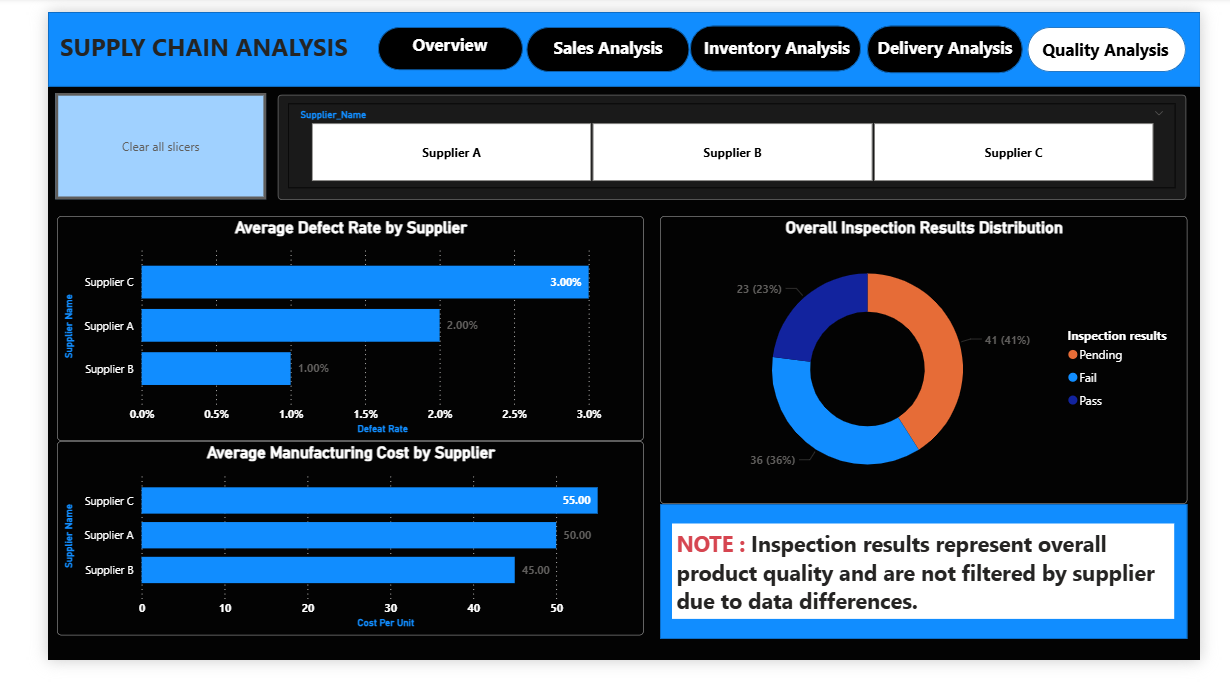

The page's visual inventory and layout, read from the dashboard file:
{"tool":"powerbi","page":{"name":"Quality Analysis","canvas":[1280,720],"ordinal":4},"visuals":[{"type":"shape","box":[0,0,1280.6,83.1],"z":0},{"type":"textbox","box":[8.6,15.8,356.7,61.6],"z":1000},{"type":"shape","box":[366,16,161,48],"z":2000},{"type":"shape","box":[531,16,181,50],"z":3000},{"type":"shape","box":[714,15,190,51],"z":4000},{"type":"shape","box":[910,15,173,53],"z":5000},{"type":"shape","box":[1088,17,176,50],"z":6000},{"type":"actionButton","box":[8,90,234,118],"z":7000},{"type":"textbox","box":[385,19,123,39],"z":8000},{"type":"textbox","box":[551,21,141,39],"z":9000},{"type":"textbox","box":[716,21,186,41],"z":10000},{"type":"textbox","box":[910,22,173,39],"z":11000},{"type":"textbox","box":[1094,23,163,35],"z":12000},{"type":"shape","box":[255.5,90.9,1010,117.3],"z":13000},{"type":"slicer","fields":{"Values":["supplier_performance.Supplier_Name"]},"box":[266,102,986,94],"z":14000},{"type":"clusteredBarChart","title":"Average Defect Rate by Supplier","fields":{"Category":["supplier_performance.Supplier_Name"],"Y":["Avg(supplier_performance.Defect_Rate_Percent)"]},"box":[10,226,652,250],"z":16000},{"type":"clusteredBarChart","title":"Average Manufacturing Cost by Supplier","fields":{"Category":["supplier_performance.Supplier_Name"],"Y":["Avg(supplier_performance.Cost_per_Unit_INR)"]},"box":[10,476,652,216],"z":17000},{"type":"donutChart","title":"Overall Inspection Results Distribution","fields":{"Category":["supply_chain_data.Inspection results"],"Y":["CountNonNull(supply_chain_data.SKU)"]},"box":[680,226,586,320],"z":18000},{"type":"shape","box":[680,546,586,150],"z":19000},{"type":"textbox","box":[694,568,558,106],"z":20000}]}

Visuals, with their boxes in screenshot pixels (x1, y1, x2, y2), scaled from the page's 1280x720 canvas onto the 1230x690 screenshot:
shape: locate(0, 0, 1229, 80)
textbox: locate(8, 15, 351, 74)
shape: locate(352, 15, 506, 61)
shape: locate(510, 15, 684, 63)
shape: locate(686, 14, 869, 63)
shape: locate(874, 14, 1041, 65)
shape: locate(1046, 16, 1215, 64)
actionButton: locate(8, 86, 233, 199)
textbox: locate(370, 18, 488, 56)
textbox: locate(529, 20, 665, 58)
textbox: locate(688, 20, 867, 59)
textbox: locate(874, 21, 1041, 58)
textbox: locate(1051, 22, 1208, 56)
shape: locate(246, 87, 1216, 200)
slicer - supplier_performance.Supplier_Name: locate(256, 98, 1203, 188)
"Average Defect Rate by Supplier" clusteredBarChart: locate(10, 217, 636, 456)
"Average Manufacturing Cost by Supplier" clusteredBarChart: locate(10, 456, 636, 663)
"Overall Inspection Results Distribution" donutChart: locate(653, 217, 1217, 523)
shape: locate(653, 523, 1217, 667)
textbox: locate(667, 544, 1203, 646)
